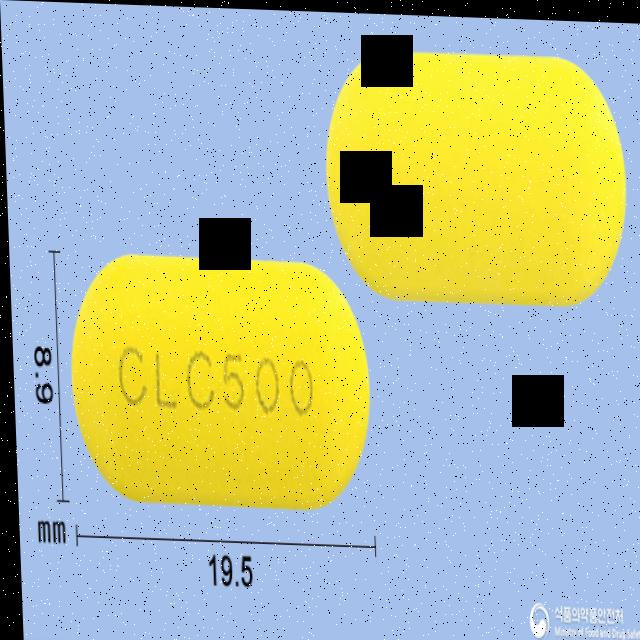CLARIUM: (64, 249, 372, 512), (320, 45, 628, 303)
